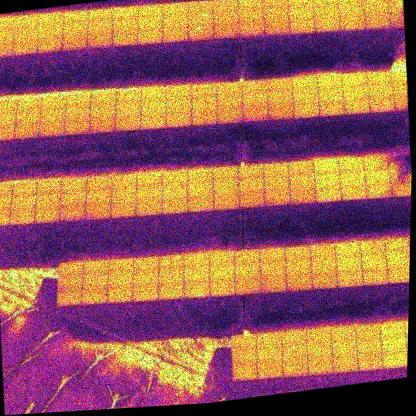Hotspot: (355, 336, 383, 356), (281, 344, 307, 364), (288, 172, 316, 190), (136, 184, 164, 202), (10, 194, 38, 212), (187, 23, 215, 41), (331, 339, 357, 358), (288, 159, 315, 177), (190, 82, 217, 100), (187, 166, 213, 184), (213, 9, 239, 27), (264, 5, 290, 22), (15, 110, 42, 126), (16, 97, 43, 113), (310, 242, 336, 258), (238, 164, 264, 180), (41, 96, 67, 112), (66, 93, 93, 108), (187, 12, 214, 27), (158, 254, 185, 268), (213, 0, 239, 13), (238, 0, 263, 12)
Normal: (335, 249, 362, 273), (186, 192, 215, 214), (311, 269, 339, 290), (285, 270, 313, 291), (84, 201, 112, 222), (131, 267, 160, 287), (8, 207, 37, 227), (260, 271, 287, 292), (234, 273, 261, 294), (157, 264, 185, 284), (106, 269, 134, 289), (380, 350, 408, 370), (289, 186, 317, 206), (161, 181, 189, 201), (378, 319, 406, 339), (60, 202, 86, 223), (360, 250, 387, 270), (209, 260, 236, 280), (183, 263, 210, 283), (340, 183, 367, 203), (238, 190, 265, 210), (212, 193, 239, 213), (332, 355, 359, 375), (380, 335, 407, 355), (354, 321, 381, 341), (305, 326, 332, 346), (255, 330, 282, 350), (132, 283, 160, 302), (284, 255, 312, 274), (314, 185, 342, 204), (109, 200, 137, 219), (306, 357, 334, 376), (212, 178, 240, 197), (88, 117, 116, 136), (114, 101, 142, 120), (136, 27, 164, 46), (160, 197, 189, 215), (109, 186, 138, 204), (266, 90, 295, 108), (161, 26, 190, 44), (362, 266, 388, 286), (107, 283, 133, 303), (82, 285, 108, 305), (310, 254, 336, 274), (259, 256, 285, 276), (235, 258, 261, 278), (357, 352, 383, 372), (264, 188, 290, 208), (136, 198, 162, 218), (268, 103, 294, 123), (112, 29, 138, 49), (337, 268, 364, 287), (159, 281, 186, 300), (212, 164, 239, 183), (191, 109, 218, 128), (165, 111, 192, 130), (213, 21, 240, 40), (11, 38, 38, 57), (313, 171, 341, 189), (186, 180, 214, 198), (362, 154, 390, 172), (338, 156, 366, 174), (135, 171, 163, 189), (293, 102, 321, 120), (341, 85, 369, 103), (114, 89, 142, 107), (238, 20, 266, 38), (255, 347, 283, 365), (385, 249, 410, 269), (210, 276, 236, 295), (185, 279, 211, 298), (56, 288, 82, 307), (58, 260, 84, 279), (35, 205, 61, 224), (217, 107, 243, 126), (307, 342, 333, 361), (231, 334, 257, 353), (84, 188, 113, 205), (36, 191, 63, 209), (256, 362, 283, 380), (114, 115, 141, 133), (14, 122, 41, 140), (165, 98, 192, 116), (140, 100, 167, 118), (39, 108, 66, 126), (263, 18, 290, 36), (86, 31, 113, 49), (36, 36, 63, 54), (112, 6, 139, 24), (279, 329, 306, 347), (81, 258, 109, 275), (363, 168, 391, 185), (237, 176, 265, 193), (262, 161, 290, 178), (63, 119, 91, 136), (89, 104, 117, 121), (64, 106, 92, 123), (364, 13, 392, 30), (338, 15, 366, 32), (162, 1, 190, 18), (319, 99, 344, 118), (232, 349, 257, 368), (60, 190, 86, 208), (86, 174, 112, 192), (39, 121, 65, 139), (216, 94, 242, 112), (62, 33, 88, 51), (330, 324, 356, 342), (387, 265, 410, 285), (82, 271, 109, 288), (133, 254, 160, 271), (282, 362, 309, 379), (61, 176, 88, 193), (232, 364, 259, 381), (343, 98, 370, 115), (140, 114, 167, 131), (292, 89, 319, 106), (190, 97, 217, 114), (140, 87, 167, 104), (314, 17, 341, 34), (61, 21, 88, 38), (369, 95, 394, 113), (341, 73, 366, 91), (338, 170, 366, 186), (12, 14, 40, 30), (264, 175, 290, 192), (314, 158, 340, 175), (111, 173, 137, 190), (37, 178, 63, 195), (12, 181, 38, 198), (242, 92, 268, 109), (292, 76, 318, 93), (166, 85, 192, 102), (314, 4, 340, 21), (88, 8, 114, 25), (63, 9, 89, 26), (359, 237, 386, 253), (284, 244, 311, 260), (367, 83, 394, 99), (317, 88, 344, 104), (316, 75, 343, 91), (87, 21, 114, 37), (187, 0, 214, 16), (137, 4, 164, 20), (58, 275, 83, 292), (243, 105, 268, 122), (339, 3, 364, 20), (363, 1, 391, 16), (234, 246, 260, 262), (108, 256, 134, 272), (267, 78, 293, 94), (242, 80, 268, 96), (90, 92, 116, 108), (289, 6, 315, 22), (37, 23, 63, 39), (184, 252, 211, 267), (161, 170, 188, 185), (289, 20, 316, 35), (163, 14, 190, 29), (112, 18, 139, 33), (38, 12, 65, 27), (335, 239, 361, 254), (259, 245, 285, 260), (209, 250, 235, 265), (216, 83, 242, 98), (238, 8, 264, 23), (137, 17, 163, 32), (12, 27, 38, 42), (367, 71, 392, 86), (287, 0, 315, 11), (0, 99, 19, 115), (0, 113, 16, 130), (312, 0, 339, 10), (0, 127, 16, 143), (0, 28, 15, 44), (0, 40, 13, 58), (263, 0, 288, 9), (0, 17, 16, 31), (337, 0, 364, 6), (362, 0, 388, 5)
Shadow: (384, 235, 410, 256), (366, 180, 393, 200)
